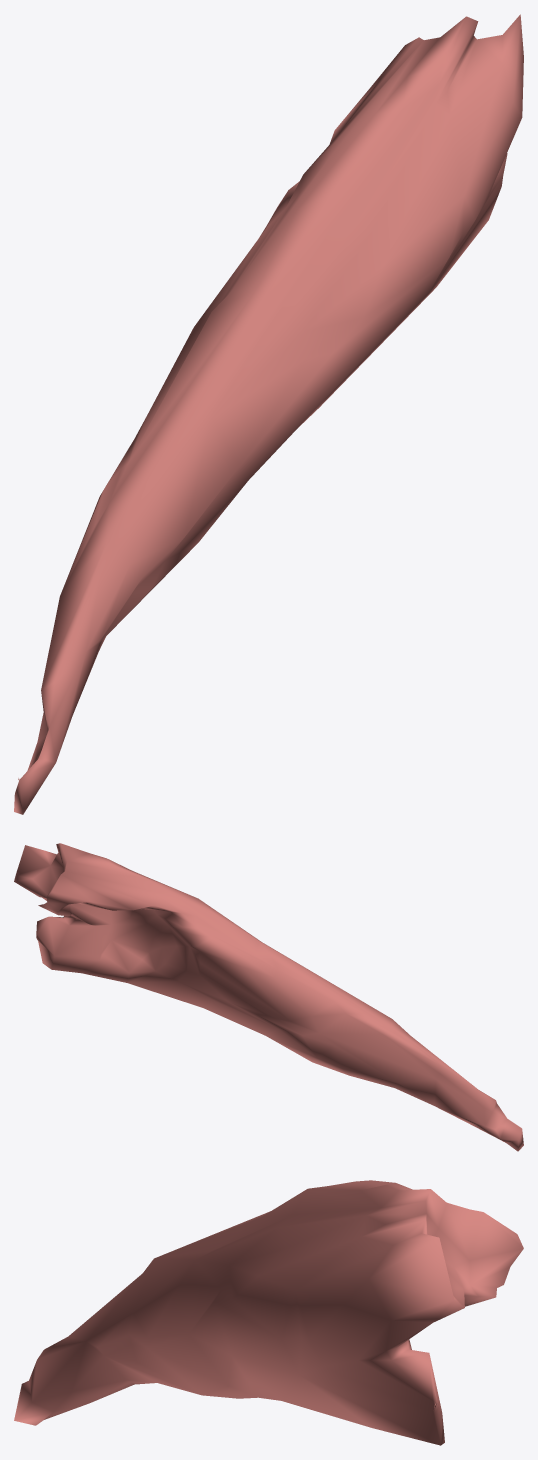
The picture shows the model from 3 angles, top to bottom: view 1: azimuth 30°, elevation 25°; view 2: azimuth 150°, elevation 25°; view 3: azimuth 270°, elevation 25°; orthographic projection. The views are drawn at different scales.
Parts seen in each view (by area): view 1: ZA_16ac69fe2ce74f23; view 2: ZA_16ac69fe2ce74f23; view 3: ZA_16ac69fe2ce74f23.
Boxes of the visible parts, <box> form: ZA_16ac69fe2ce74f23: <box>14,14,523,814</box>; ZA_16ac69fe2ce74f23: <box>14,843,523,1151</box>; ZA_16ac69fe2ce74f23: <box>14,1180,523,1445</box>.
Bounding box in the file's own units: 0.044 × 0.0311 × 0.0247.
